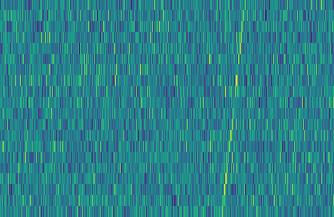signal: (218, 0, 251, 217)
